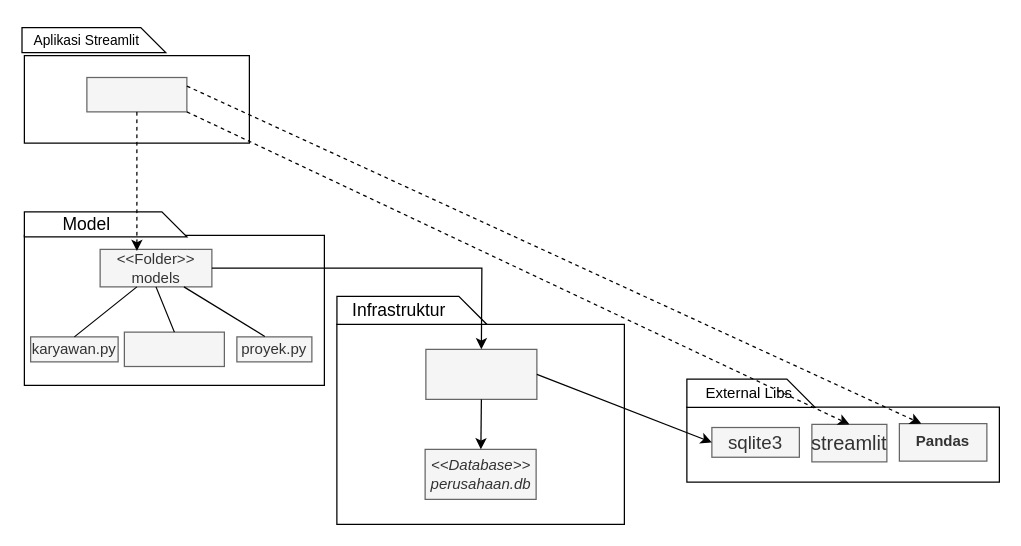
Image size: 1021x546. Some labels were removed from this diagram. Here are the shapes that lost their labels. From the top down, the centre of each, then its label:
(136,94): app.py
(173,348): perusahaan.py
(481,373): database.py
